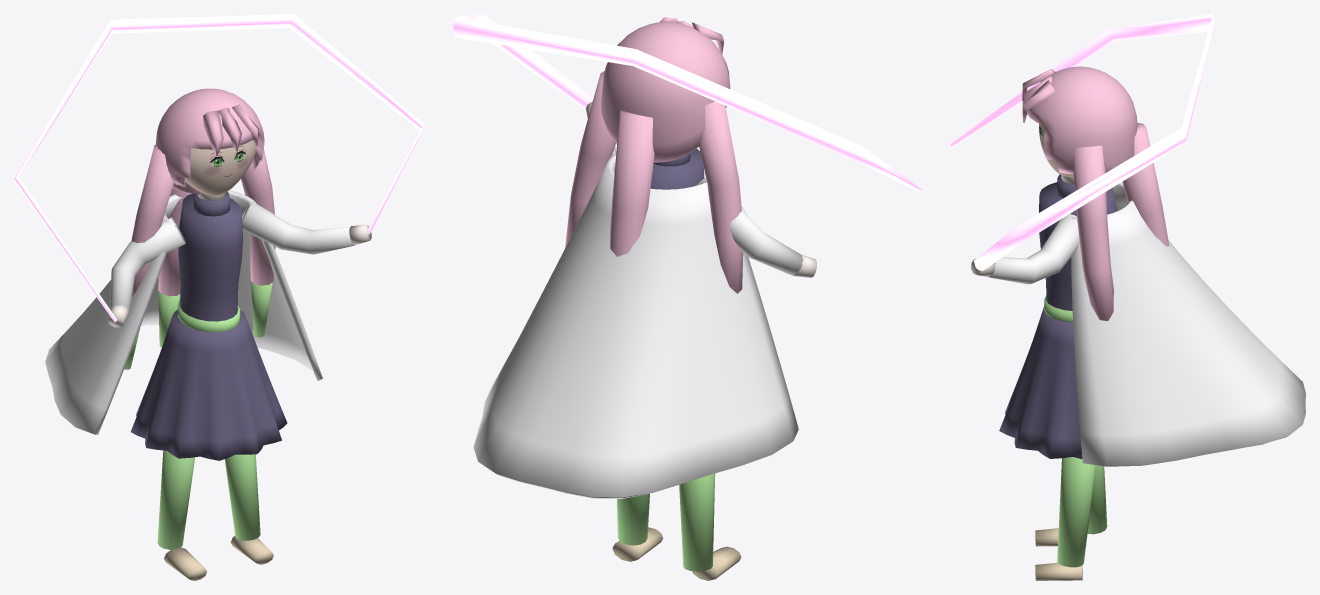
Rendered from mitsuri.glb.
3 views of the same model, side by side, from view 1: azimuth 30°, elevation 25°; view 2: azimuth 150°, elevation 25°; view 3: azimuth 270°, elevation 25° (orthographic). The views are drawn at different scales.
Visible parts, largest first — view 1: UniformSkirt, WhiteHaori, WhipBlade, Torso, HairCrown, ArmR, Leg_-1, Head, ArmL, BraidPink_-1, Leg_1, BraidPink_1 (+8 smaller); view 2: WhiteHaori, WhipBlade, HairCrown, BraidPink_-1, BraidBackP, BraidPink_1, Leg_-1, ArmL, Leg_1, Torso, Foot_-1, Foot_1; view 3: WhiteHaori, UniformSkirt, HairCrown, WhipBlade, BraidPink_1, Leg_1, ArmR, BraidBackP, Torso, Leg_-1, Foot_1, Bang_0.08.
Boxes of the visible parts, <box> form: UniformSkirt: <box>130,309,287,460</box>; WhiteHaori: <box>45,190,322,434</box>; WhipBlade: <box>14,14,424,322</box>; Torso: <box>178,193,242,321</box>; HairCrown: <box>155,88,264,194</box>; ArmR: <box>242,201,354,254</box>; Leg_-1: <box>157,450,194,549</box>; Head: <box>185,140,256,195</box>; ArmL: <box>110,217,185,311</box>; BraidPink_-1: <box>131,145,173,296</box>; Leg_1: <box>224,454,260,540</box>; BraidPink_1: <box>241,150,275,285</box>; WhiteHaori: <box>473,153,798,498</box>; WhipBlade: <box>453,14,921,192</box>; HairCrown: <box>601,22,730,162</box>; BraidPink_-1: <box>699,101,743,293</box>; BraidBackP: <box>610,110,654,256</box>; BraidPink_1: <box>565,71,615,247</box>; Leg_-1: <box>679,473,715,571</box>; ArmL: <box>697,178,803,275</box>; Leg_1: <box>617,493,649,545</box>; Torso: <box>650,149,704,189</box>; Foot_-1: <box>692,546,741,580</box>; Foot_1: <box>612,527,663,561</box>; WhiteHaori: <box>1071,182,1305,466</box>; UniformSkirt: <box>999,306,1082,459</box>; HairCrown: <box>1027,66,1137,174</box>; WhipBlade: <box>950,14,1215,270</box>; BraidPink_1: <box>1073,145,1113,320</box>; Leg_1: <box>1057,457,1095,567</box>; ArmR: <box>989,214,1079,284</box>; BraidBackP: <box>1122,123,1169,246</box>; Torso: <box>1039,182,1117,310</box>; Leg_-1: <box>1087,465,1107,534</box>; Foot_1: <box>1035,562,1082,580</box>; Bang_0.08: <box>1022,80,1055,122</box>.
Bounding box in the file's own units: 1.55 × 2 × 1.22.
8 materials, 1 textured.
